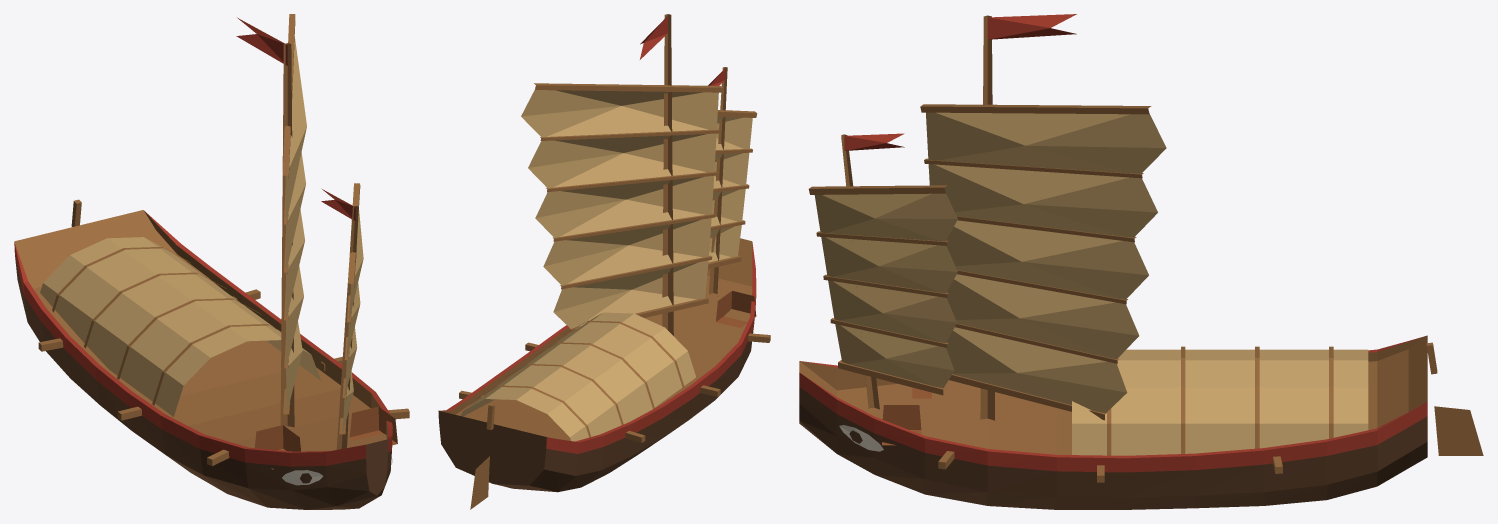
File: ship_cargo_junk.glb
3 views of the same model, side by side, from view 1: azimuth 30°, elevation 25°; view 2: azimuth 150°, elevation 25°; view 3: azimuth 270°, elevation 25° (orthographic). The views are drawn at different scales.
Visible parts, largest first — view 1: ship_cargo_junk; view 2: ship_cargo_junk; view 3: ship_cargo_junk.
Part boxes in pixels (x1,y1,x2,y2): ship_cargo_junk: (14, 14, 409, 509); ship_cargo_junk: (438, 14, 770, 509); ship_cargo_junk: (799, 14, 1483, 509).
Size of the model in its own units: 6.2 by 11.53 by 15.25.
